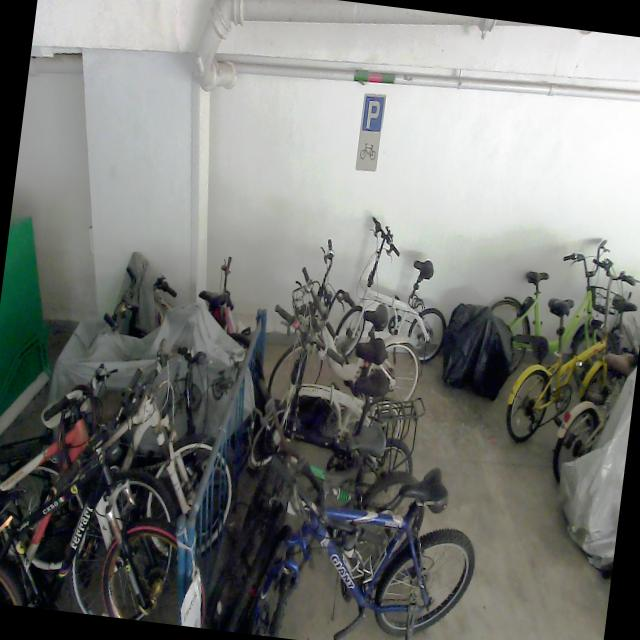bike: (0, 320, 249, 598), (0, 350, 196, 623), (218, 441, 485, 640), (240, 357, 422, 546), (265, 233, 434, 417), (248, 301, 416, 485), (477, 226, 637, 408), (503, 247, 640, 452), (333, 212, 459, 367)
